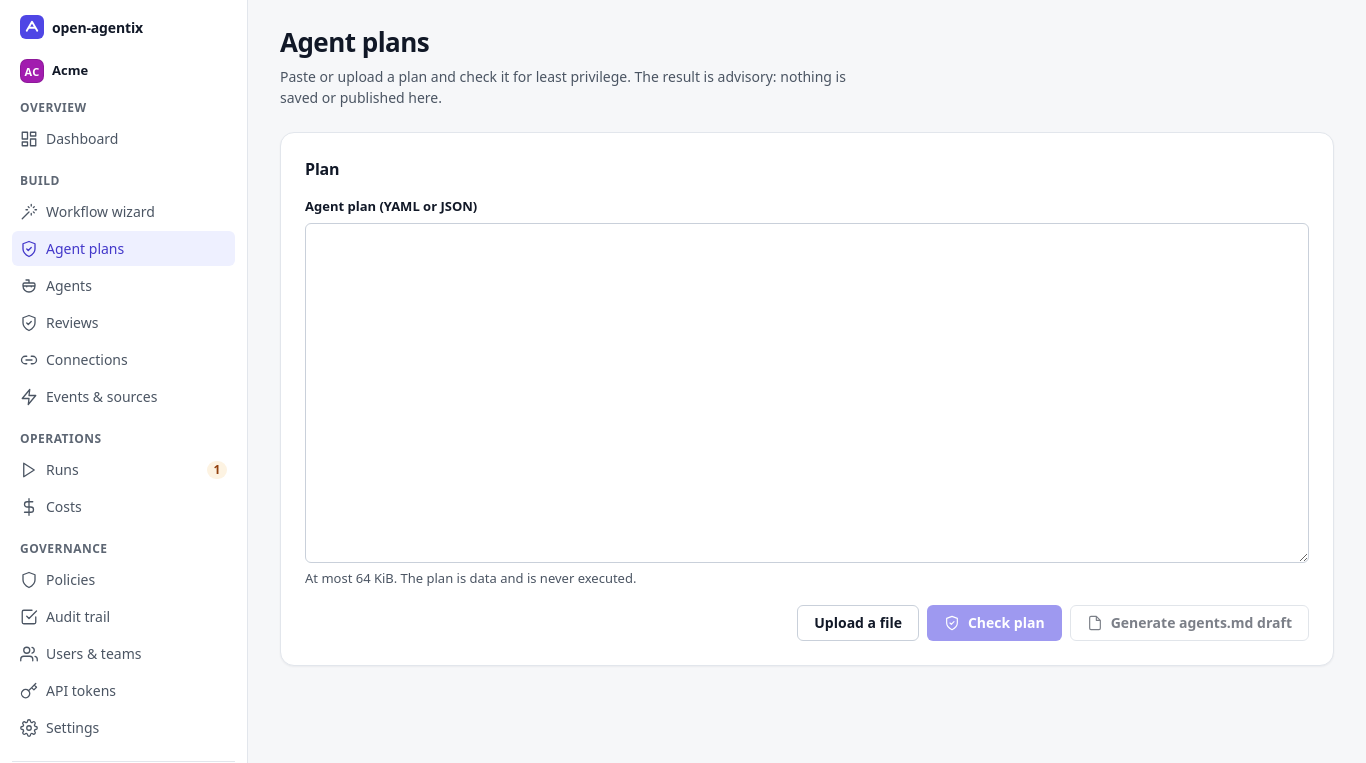
Test case: plans page › lists parse errors for an invalid plan
Type "INVALID" into the text box labelled "Agent plan (YAML or JSON)".
click(807, 393); type("INVALID")  # box x1=305 y1=223 x2=1309 y2=564
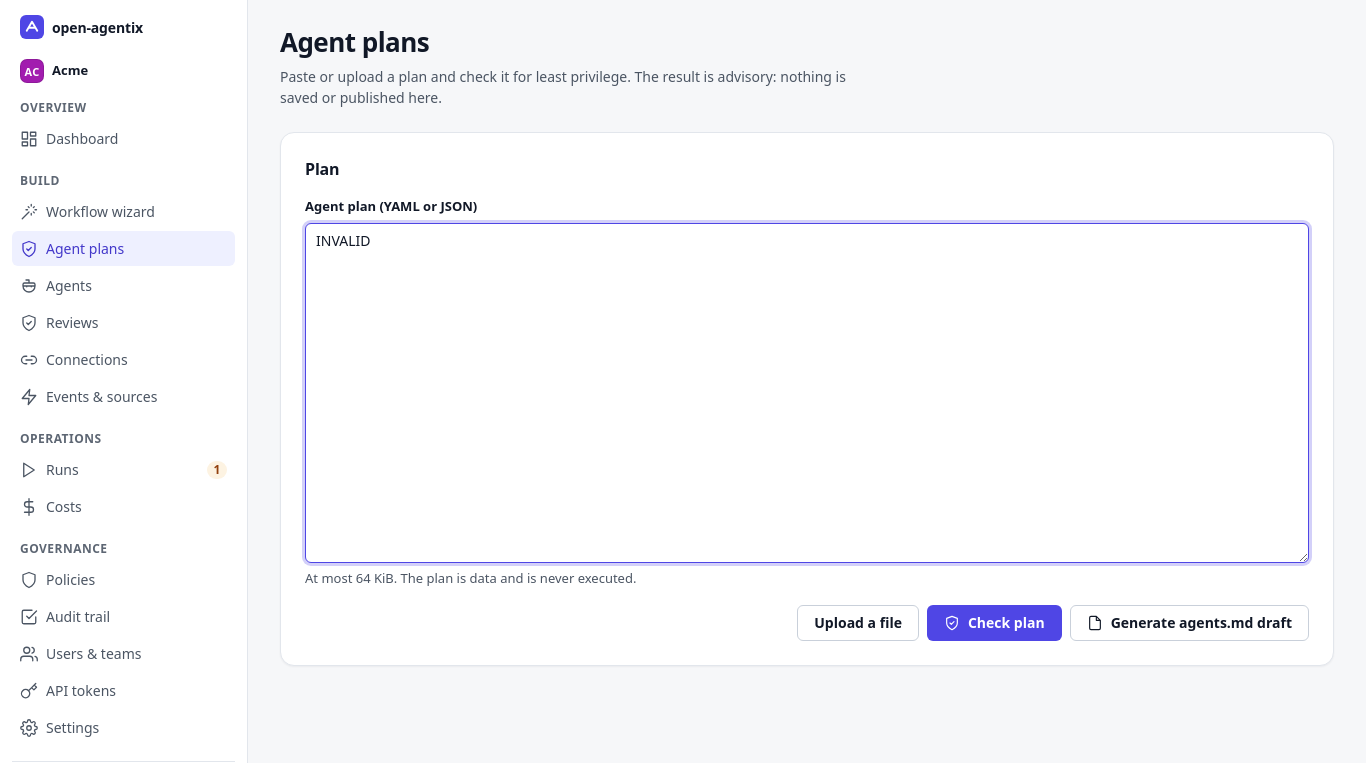
Click the button "Check plan".
click(994, 623)  # box x1=927 y1=605 x2=1062 y2=641
(page scrolled)
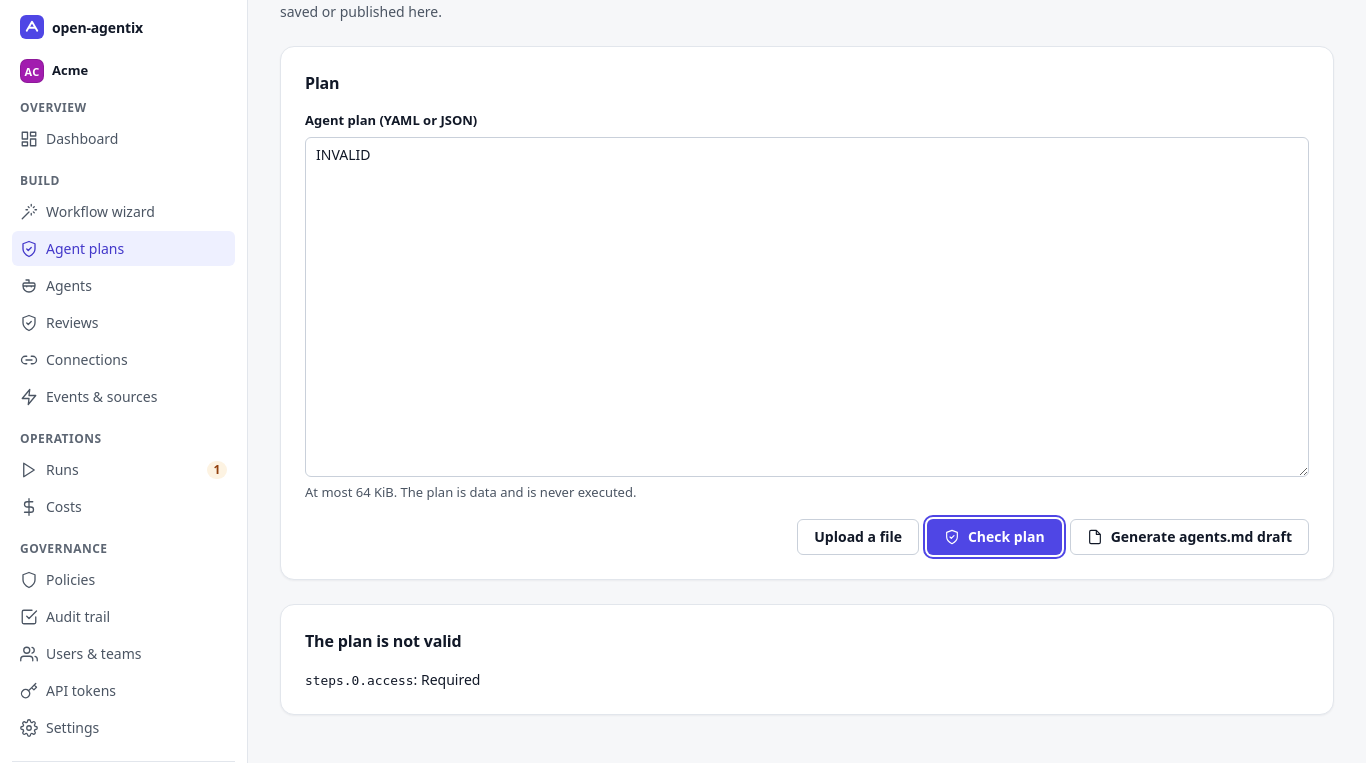
Now the heading "The plan is not valid" is shown, box x1=305 y1=629 x2=462 y2=653
Now the text "steps.0.access" is shown, box x1=305 y1=673 x2=414 y2=688
